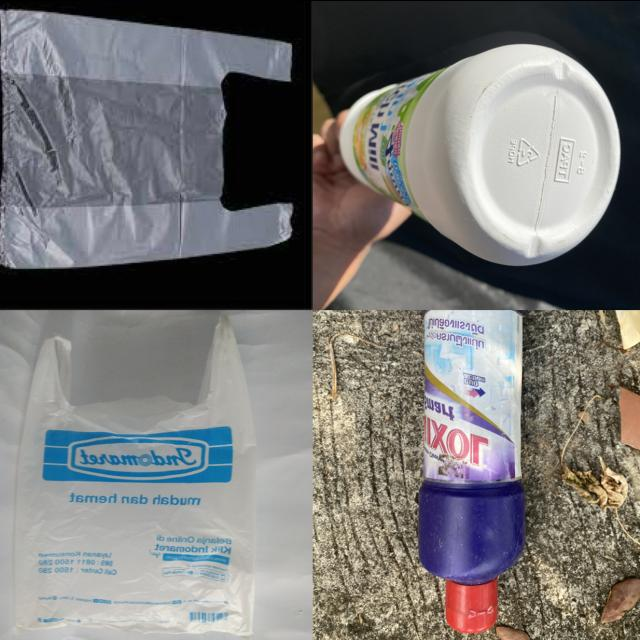plastik: (15, 316, 256, 635), (0, 10, 292, 268), (340, 43, 620, 265), (419, 309, 525, 631)
